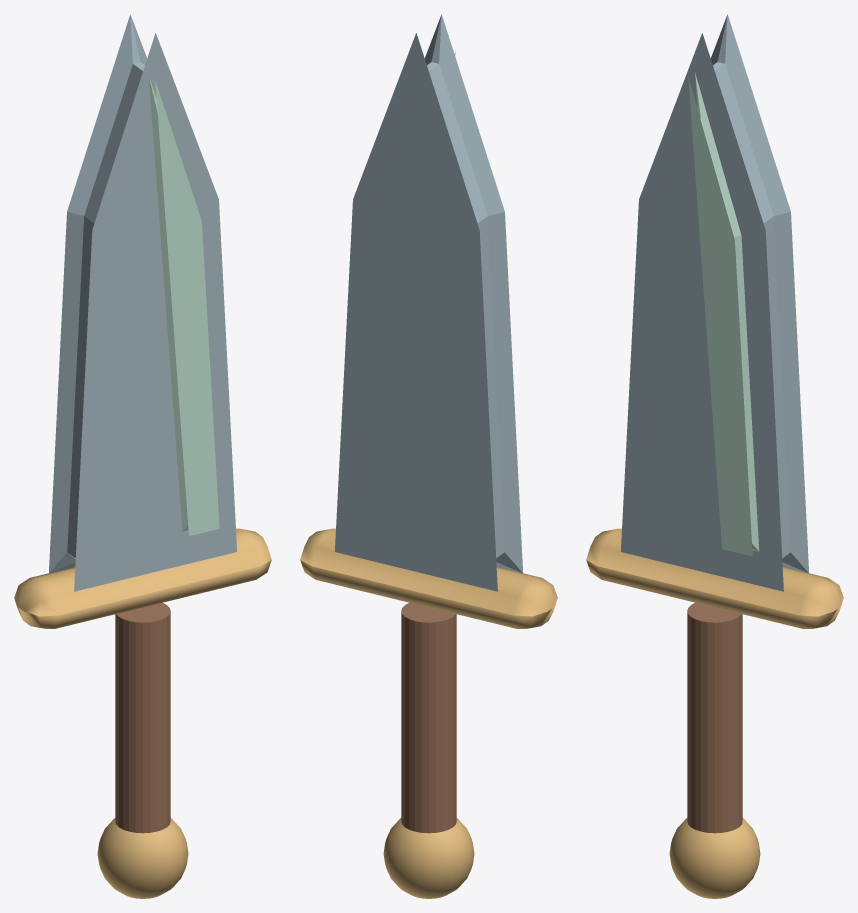
The model's file is sword.glb.
The picture shows the model from 3 angles, left to right: view 1: azimuth 30°, elevation 25°; view 2: azimuth 150°, elevation 25°; view 3: azimuth 330°, elevation 25°; orthographic projection.
Visible parts, largest first — view 1: sword_root; view 2: sword_root; view 3: sword_root.
Boxes of the visible parts, x1=… form: sword_root: x1=14, y1=14, x2=271, y2=898; sword_root: x1=300, y1=14, x2=557, y2=898; sword_root: x1=586, y1=14, x2=843, y2=898.
Size of the model in its own units: 0.3237 by 1.1 by 0.104.
